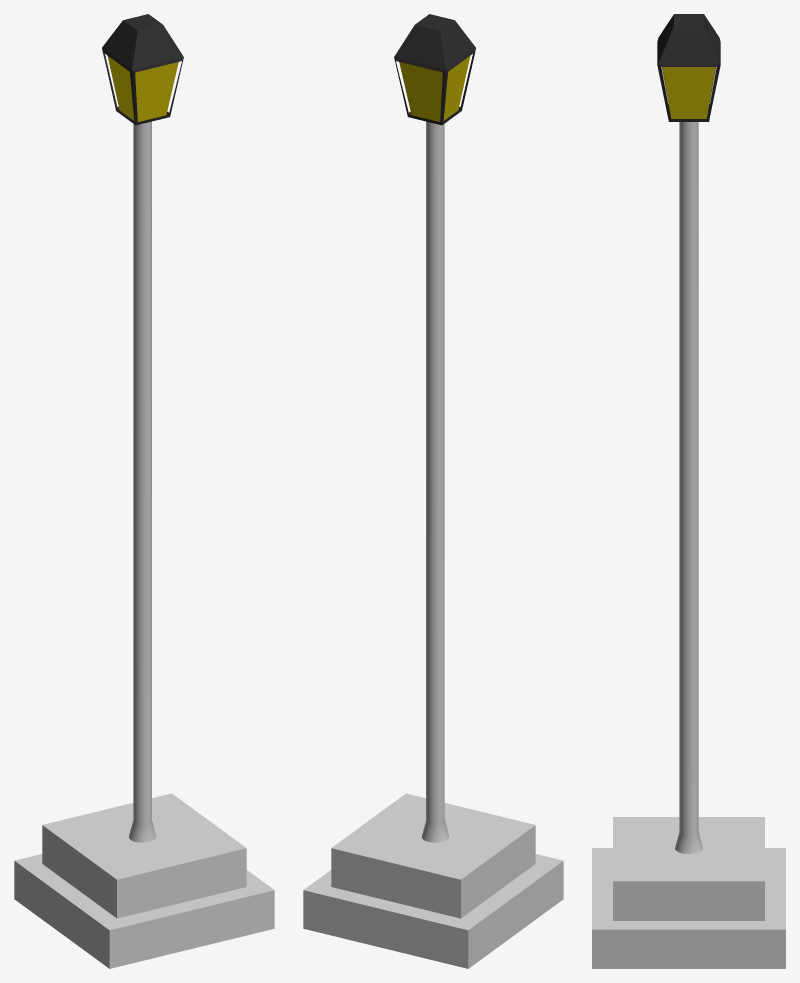
The model's file is StreetLamp.fbx.
3 renders of one model, left to right at view 1: azimuth 30°, elevation 25°; view 2: azimuth 150°, elevation 25°; view 3: azimuth 270°, elevation 25°, orthographic.
Parts seen in each view (by area): view 1: pCube1, pCylinder1, pCube2; view 2: pCube1, pCylinder1, pCube2; view 3: pCube1, pCylinder1, pCube2.
Part boxes in pixels (x1,y1,x2,y2): pCube1: [14, 793, 274, 968]; pCylinder1: [129, 121, 155, 842]; pCube2: [102, 14, 183, 125]; pCube1: [303, 793, 563, 968]; pCylinder1: [422, 121, 448, 842]; pCube2: [394, 14, 475, 125]; pCube1: [592, 817, 785, 968]; pCylinder1: [675, 122, 702, 854]; pCube2: [657, 14, 720, 121].
Bounding box in the file's own units: 44.06 × 228 × 44.06.
